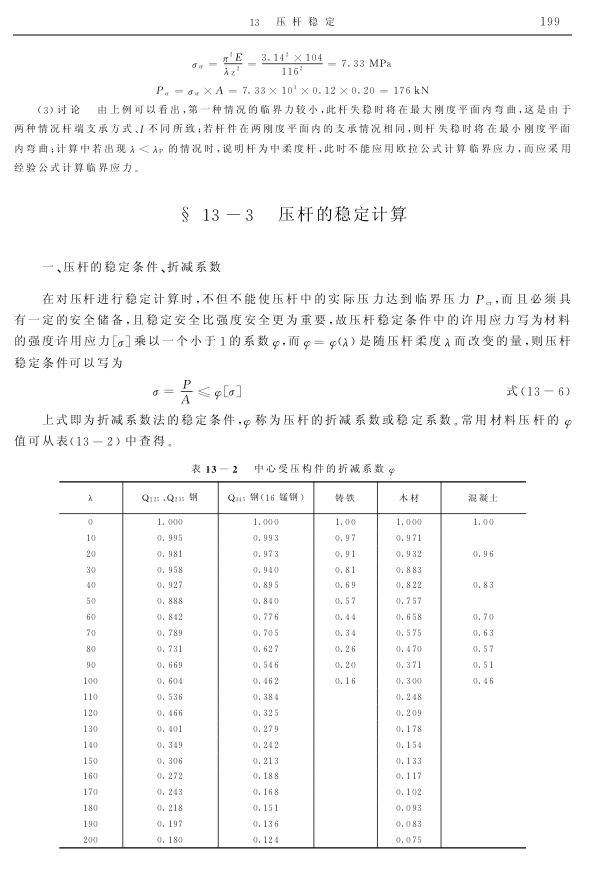table: (59, 481, 526, 849)
